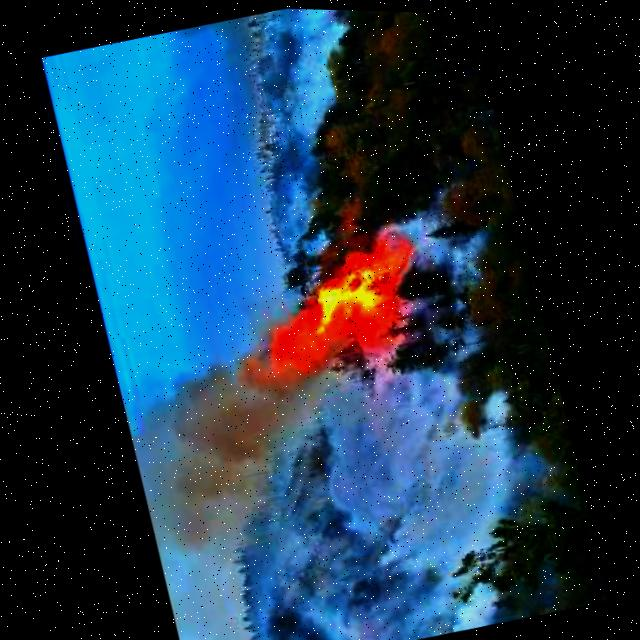Fire: (292, 249, 400, 345)
Smoke: (113, 308, 351, 557)
